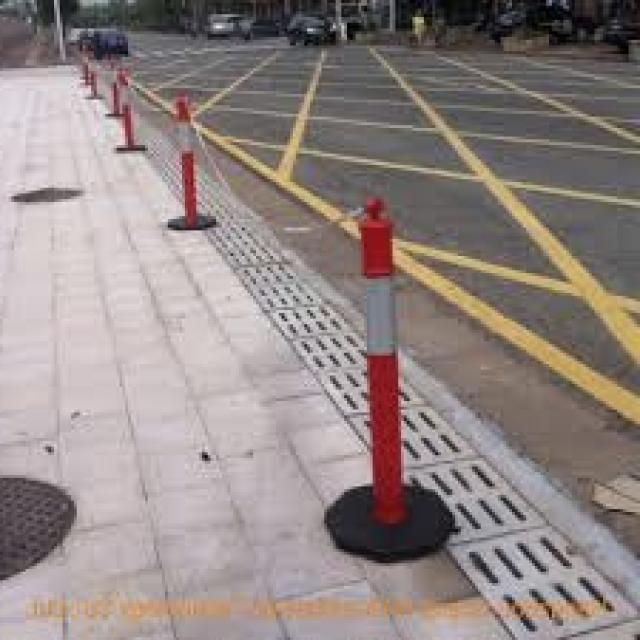bollard: (320, 166, 450, 553), (164, 75, 227, 238), (110, 58, 146, 156)
